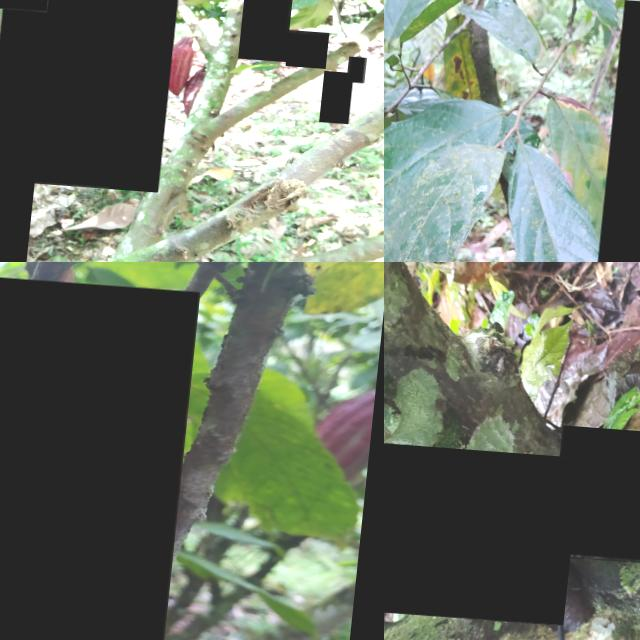Fitoftora: (384, 437, 587, 620), (0, 0, 192, 187)
Monilia: (0, 267, 203, 640), (558, 420, 640, 565)
Sana: (0, 174, 46, 262), (247, 0, 300, 54), (329, 63, 363, 116), (295, 23, 338, 61), (356, 48, 376, 75)
